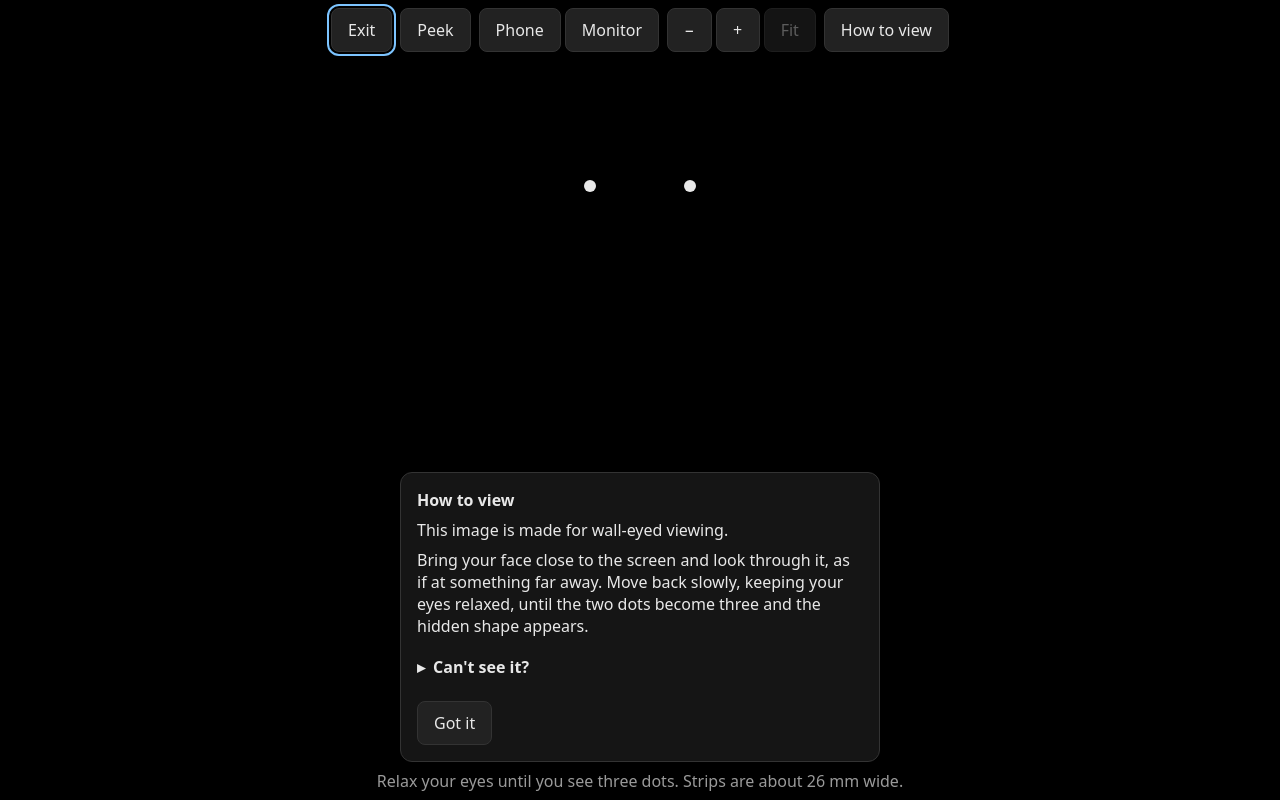
Test: Viewer › zooms in steps and sizes the picture back to fit
Later steps or results of the test are not shown.
expect the button with aria-label "Size to fit" is disabled: met, box [764,8,816,52]
Click the button named "Zoom in".
click(738, 30)  # box [716,8,760,52]
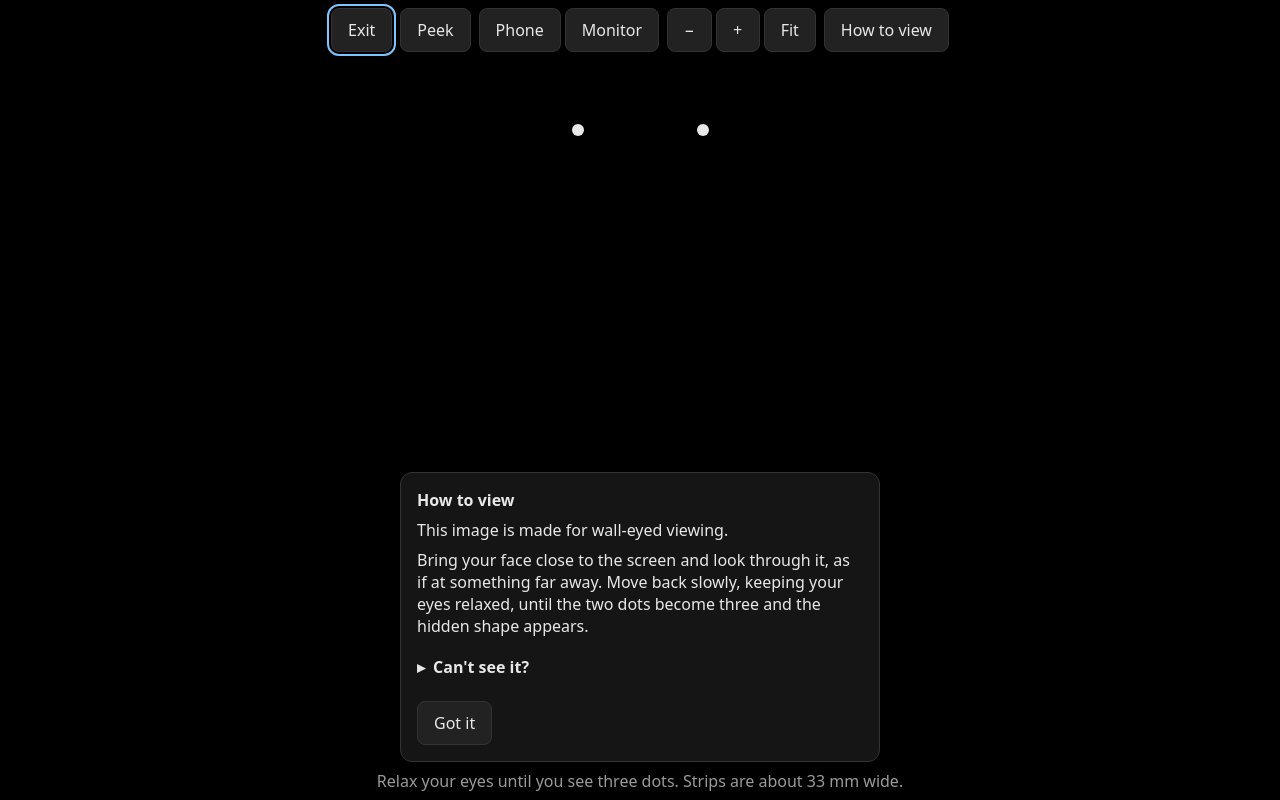
Click the button named "Zoom out".
click(689, 30)  # box [667,8,712,52]
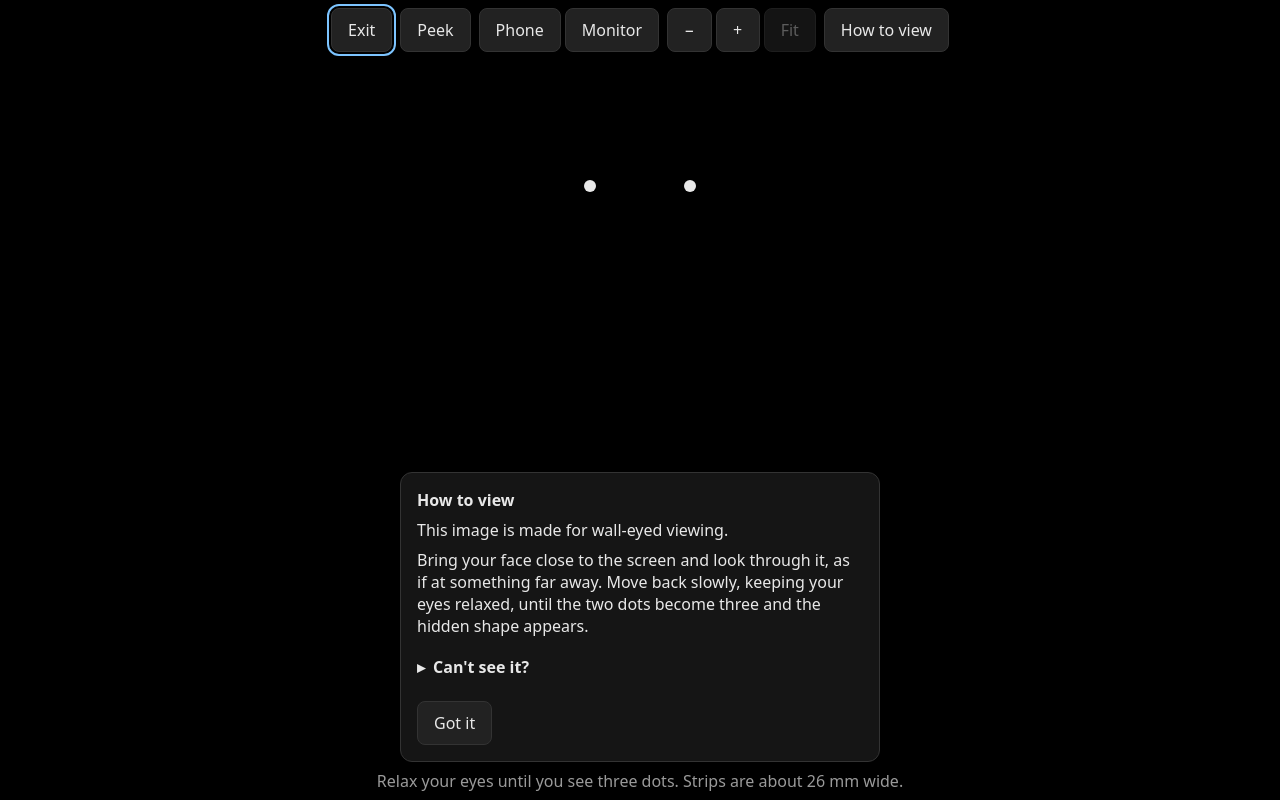
Click the button named "Zoom out".
click(689, 30)  # box [667,8,712,52]
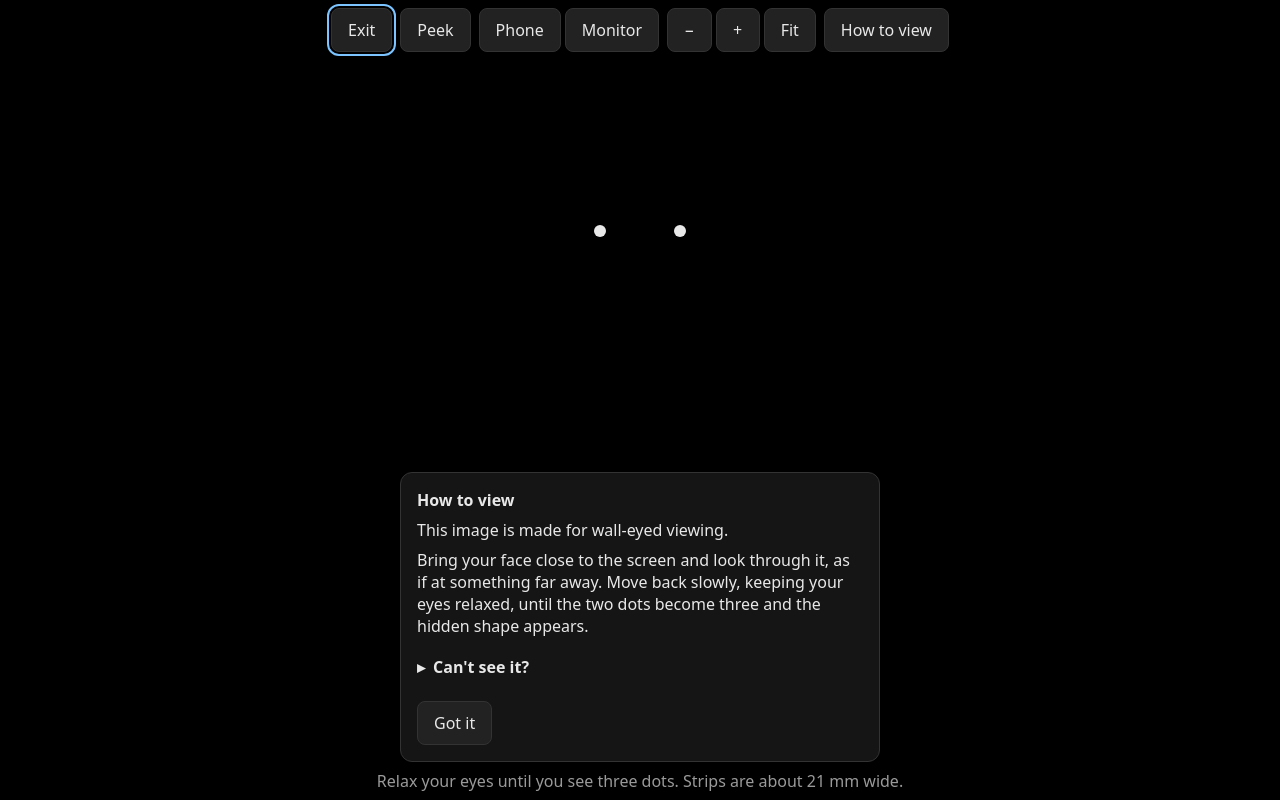
expect the button with aria-label "Size to fit" is enabled: met, box [764,8,816,52]
